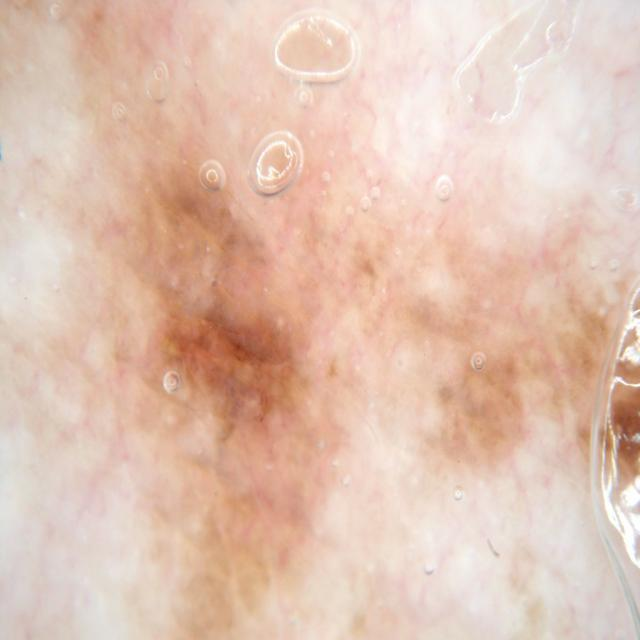Skin-Cancer Seborrheic keratosis: (14, 10, 640, 627)
